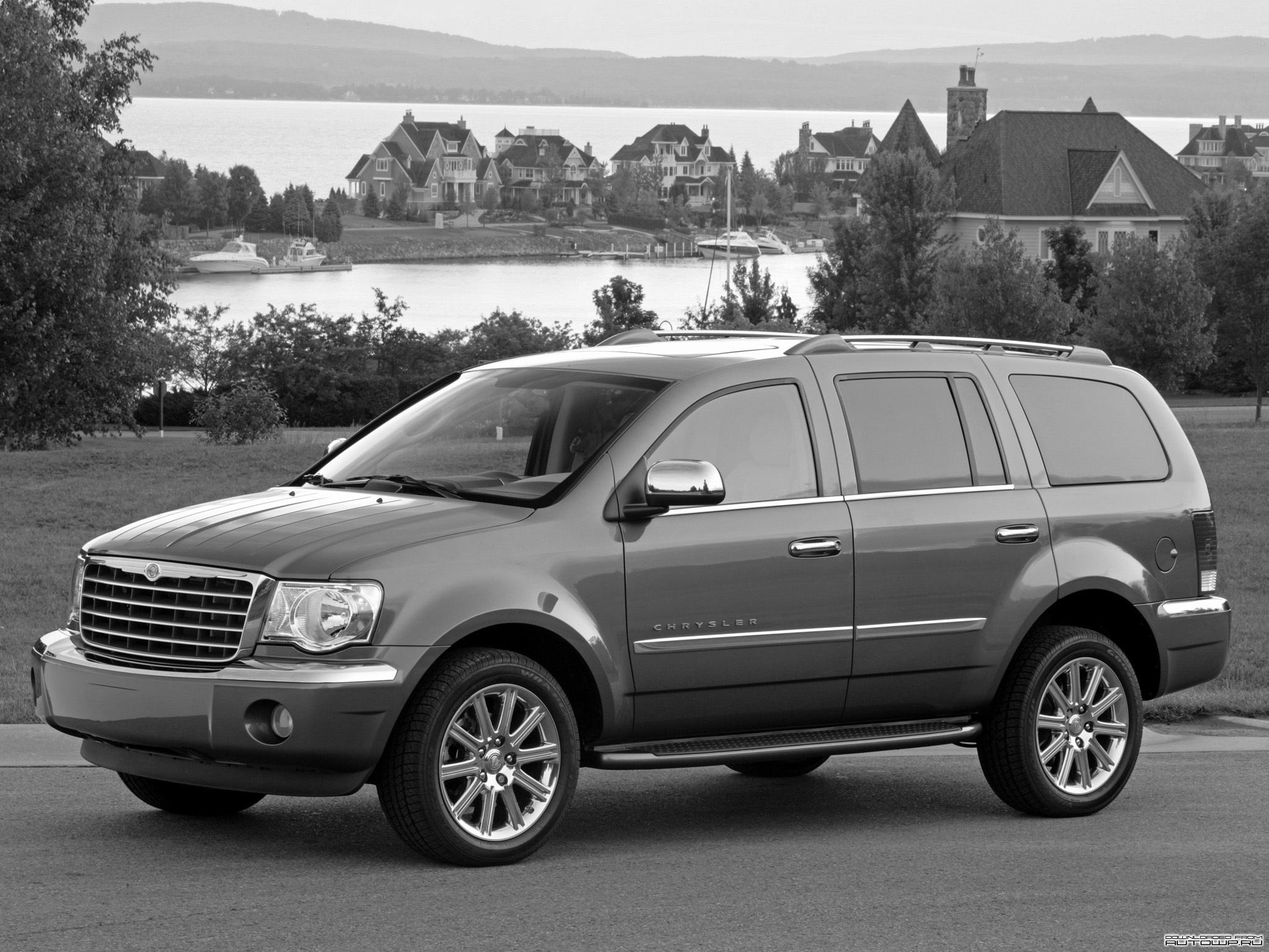car: (27, 317, 1236, 867)
